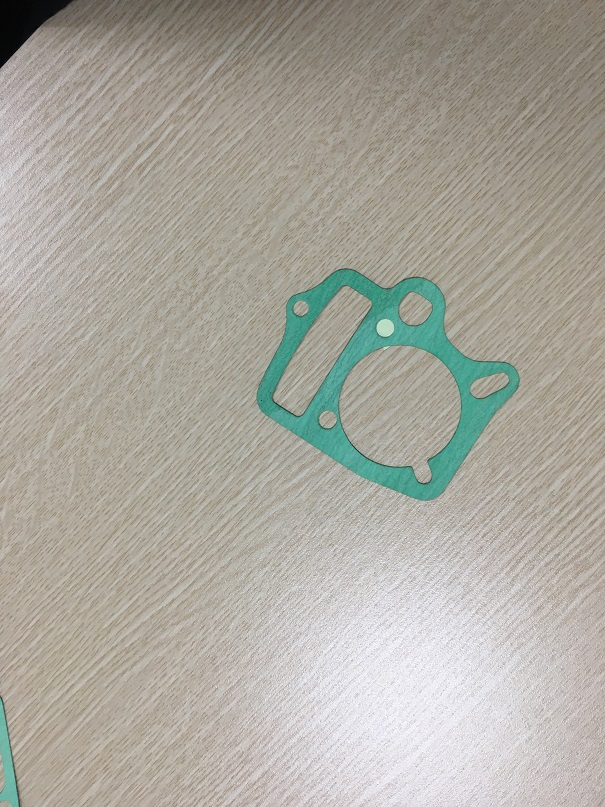type4: (248, 255, 537, 505)
